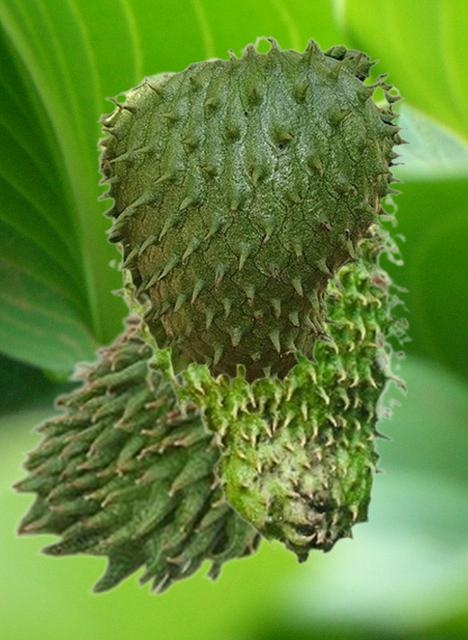guyabano: (107, 55, 413, 565), (6, 254, 396, 596), (96, 34, 412, 395)
